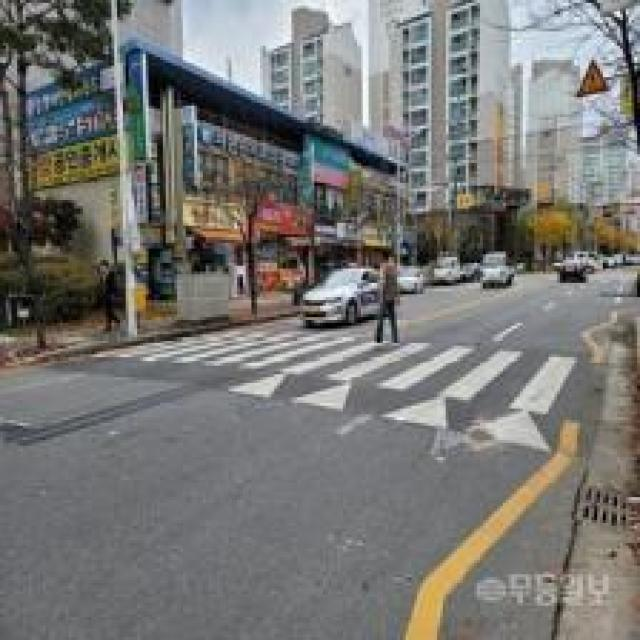crosswalk: (89, 312, 580, 451)
